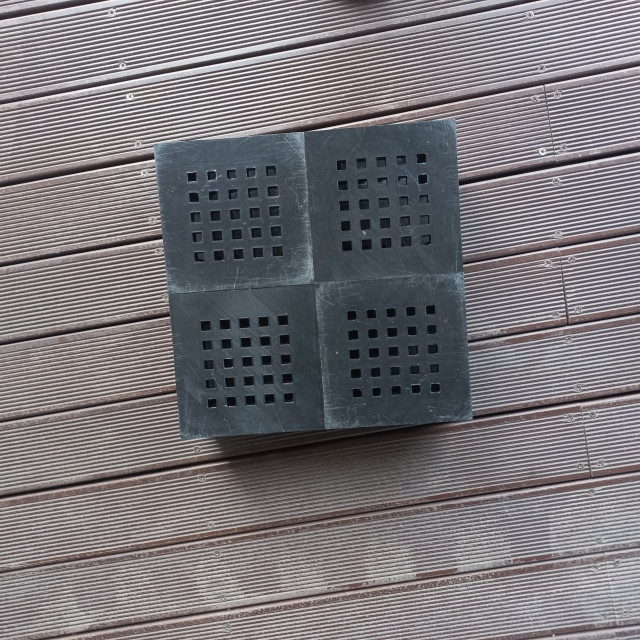pallet: (151, 115, 473, 452)
